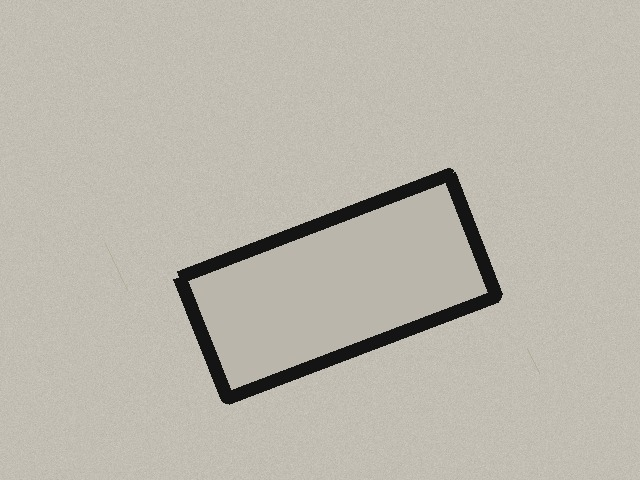parking_area: (179, 174, 496, 398)
